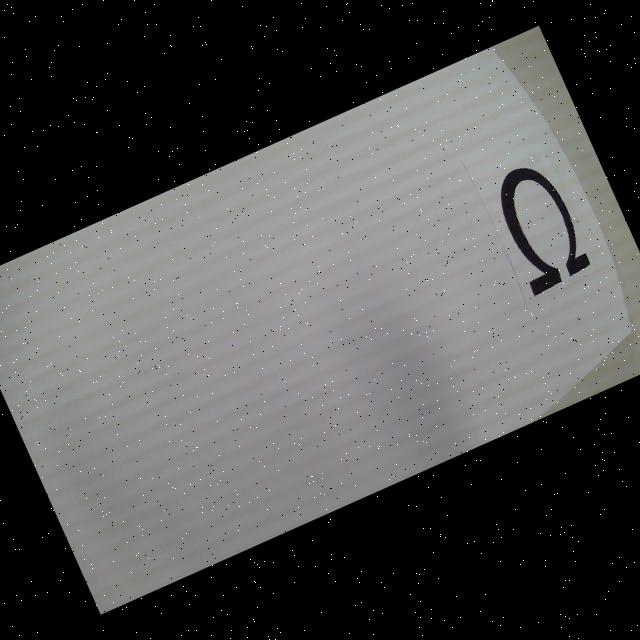OMEGA: (485, 156, 595, 296)
